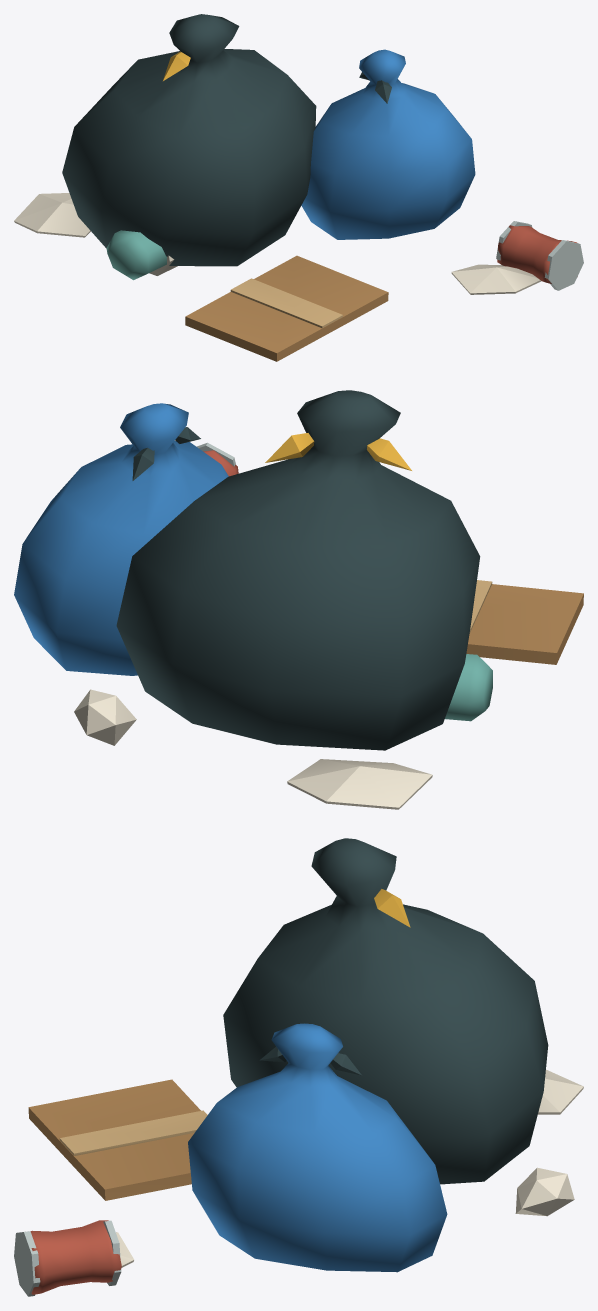
File: waste-partial-low.glb
3 views of the same model, one above another, from view 1: azimuth 30°, elevation 25°; view 2: azimuth 150°, elevation 25°; view 3: azimuth 270°, elevation 25° (orthographic). The views are drawn at different scales.
Visible parts, largest first — view 1: tied refuse sack, tied refuse sack.001, flattened carton, bottle label, crumpled drink can, flattened carton tape, discarded bottle, aluminium can end; view 2: tied refuse sack, tied refuse sack.001, bottle label, flattened carton, discarded bottle, sack tie; view 3: tied refuse sack, tied refuse sack.001, flattened carton, crumpled drink can, bottle label, flattened carton tape, aluminium can end, sack tie.
Boxes of the visible parts, x1,y1,x2,y2 form: tied refuse sack: (62,14,391,266); tied refuse sack.001: (301,49,475,239); flattened carton: (185,255,388,361); bottle label: (14,193,541,294); crumpled drink can: (497,225,577,283); flattened carton tape: (230,278,342,328); discarded bottle: (106,230,166,280); aluminium can end: (496,221,583,290); tied refuse sack: (116,390,480,750); tied refuse sack.001: (14,403,228,675); bottle label: (74,689,432,809); flattened carton: (466,584,583,664); discarded bottle: (445,654,492,721); sack tie: (265,433,411,470); tied refuse sack: (223,838,548,1184); tied refuse sack.001: (188,1023,447,1272); flattened carton: (28,1079,200,1200); crumpled drink can: (30,1220,121,1294); bottle label: (116,1069,583,1267); flattened carton tape: (59,1110,207,1155); aluminium can end: (14,1220,121,1296); sack tie: (374,889,410,927).
Bounding box in the file's own units: 0.7899 × 0.4886 × 0.8188.
